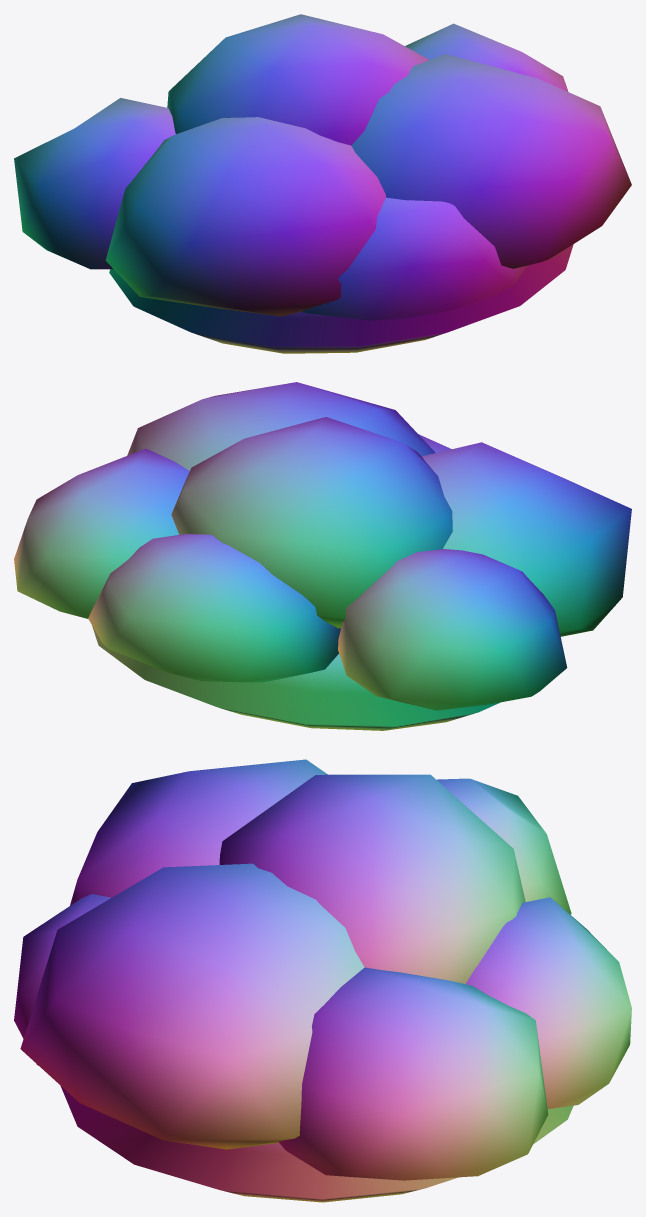
File: SM_Prop_Gather_Barrowmoss.fbx
The picture shows the model from 3 angles, top to bottom: view 1: azimuth 30°, elevation 25°; view 2: azimuth 150°, elevation 25°; view 3: azimuth 270°, elevation 25°; orthographic projection. The views are drawn at different scales.
Parts seen in each view (by area): view 1: SM_Prop_Gather_Barrowmoss; view 2: SM_Prop_Gather_Barrowmoss; view 3: SM_Prop_Gather_Barrowmoss.
Boxes of the visible parts, left/top/right/bottom form: SM_Prop_Gather_Barrowmoss: left=14, top=14, right=631, bottom=353; SM_Prop_Gather_Barrowmoss: left=14, top=382, right=631, bottom=730; SM_Prop_Gather_Barrowmoss: left=14, top=759, right=631, bottom=1202.
Bounding box in the file's own units: 0.3354 × 0.1516 × 0.2741.
